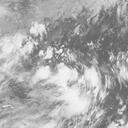cyclone: (25, 48, 100, 119)
